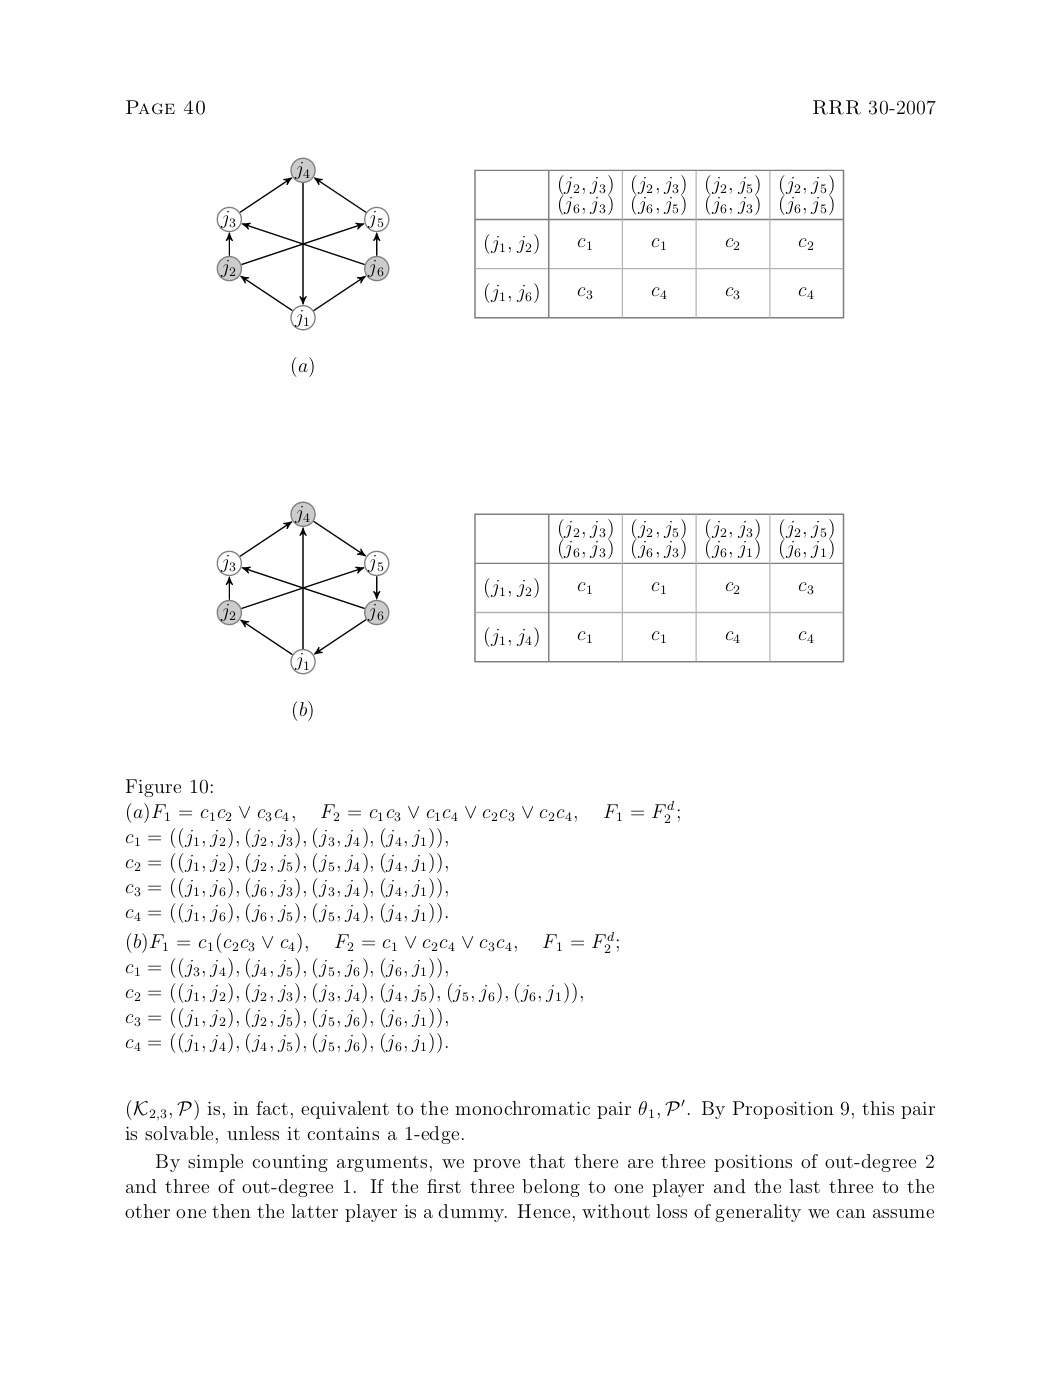figure: (474, 513, 844, 662), (474, 169, 844, 318), (216, 157, 389, 330), (216, 506, 389, 674)
formula: (127, 800, 679, 822), (127, 931, 619, 953), (125, 982, 582, 1003), (125, 827, 447, 848), (125, 877, 447, 898), (125, 902, 447, 923), (125, 957, 447, 978), (125, 1032, 447, 1053), (125, 853, 447, 873), (125, 1007, 447, 1028)
